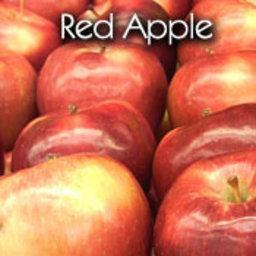apple: (1, 155, 153, 256), (12, 98, 158, 190), (36, 41, 167, 129), (153, 149, 256, 255)
